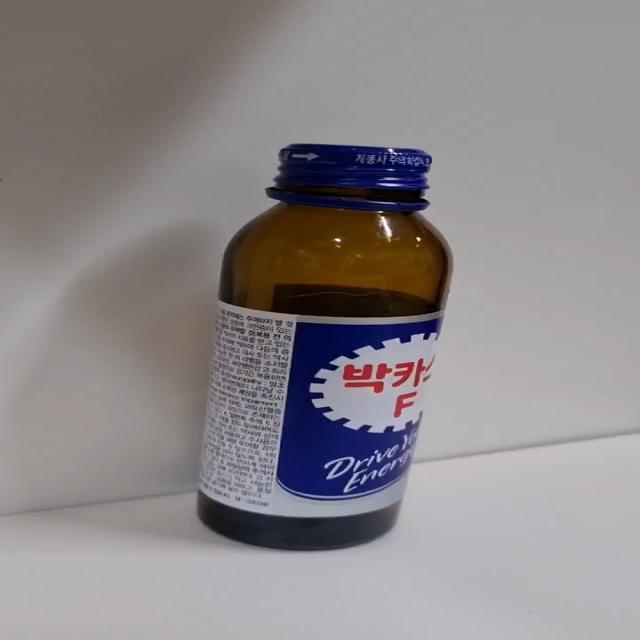Glass: (194, 144, 454, 555)
